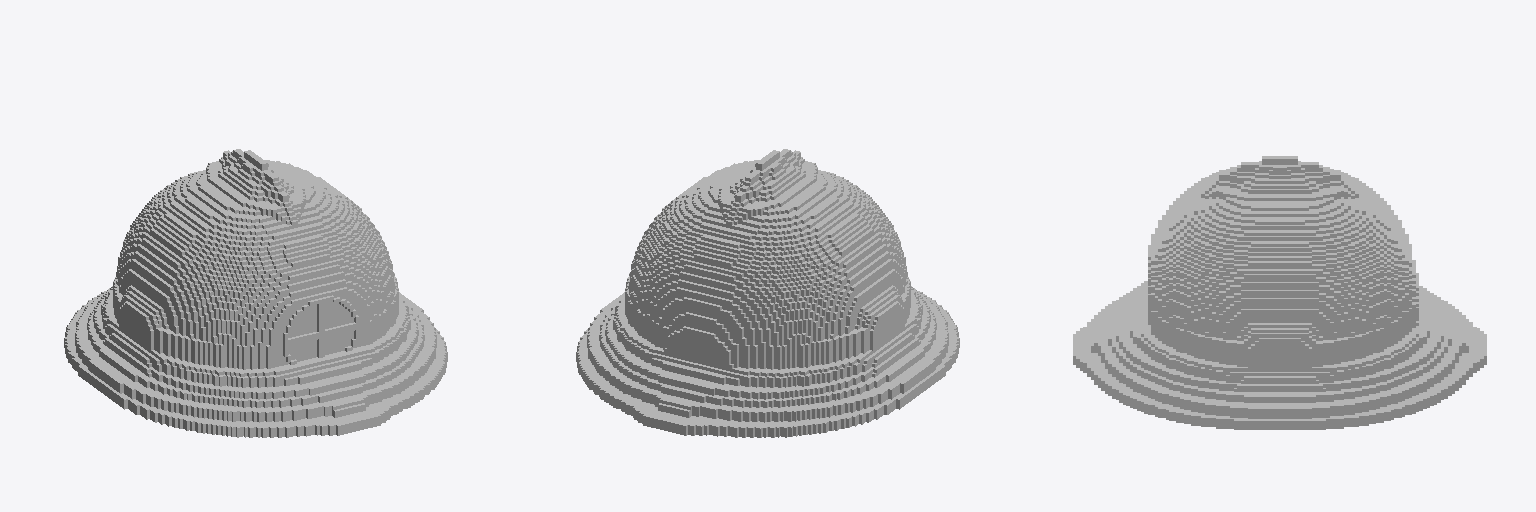
Rendered from Casque médecin.obj.
3 renders of one model, left to right at view 1: azimuth 30°, elevation 25°; view 2: azimuth 150°, elevation 25°; view 3: azimuth 270°, elevation 25°, orthographic.
Parts seen in each view (by area): view 1: object 1; view 2: object 1; view 3: object 1.
Boxes of the visible parts, box(x1,y1,x2,y2) form: object 1: box(64, 149, 447, 437); object 1: box(576, 149, 959, 437); object 1: box(1073, 156, 1486, 429).
Size of the model in its own units: 10 by 6.1 by 11.6.